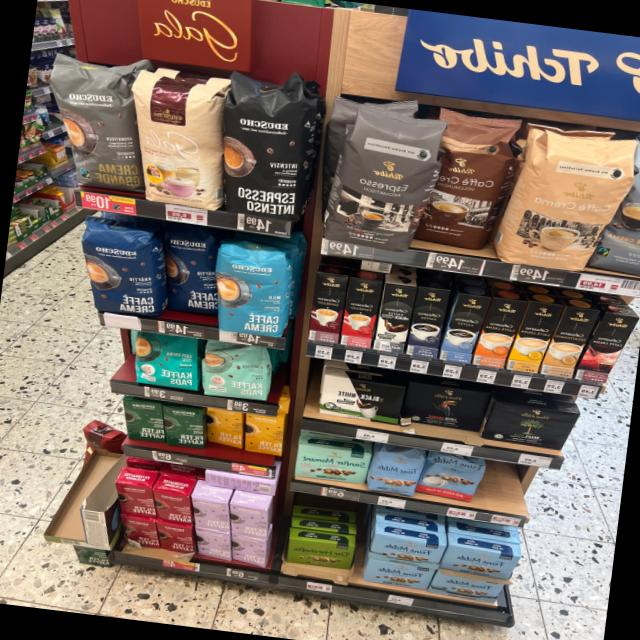BM Gemahlen: (480, 398, 582, 452)
BW Gemahlen: (314, 373, 405, 426)
CC Mild: (497, 127, 638, 278)
CC Vollmundig 36 Pads: (416, 108, 526, 255)
Espresso Aromatisch: (322, 106, 452, 254)
FM 36 Pads: (416, 452, 490, 504)
FM Bohne: (366, 444, 426, 498)
FM Gemahlen: (437, 543, 519, 581), (368, 532, 444, 570), (426, 569, 503, 604), (361, 558, 436, 592)
Herzhatfe Mundig: (284, 536, 356, 571)
LG Gemahlen: (400, 382, 490, 434)
SM Gemahlen: (292, 443, 371, 486)
Simo CC Colombia: (572, 312, 638, 384)
Simo CCMild bigpack: (505, 300, 563, 374)
Simo CCVollmundig bigpack: (471, 298, 527, 368)
Simo Decaff: (538, 306, 599, 378)
Simo Es Brazil: (340, 277, 380, 348)
Simo Es Caramel: (308, 272, 346, 343)
Simo Es Elegant: (373, 281, 416, 354)
Simo Es Kraft: (405, 285, 448, 357)
Simo Es Vanilla: (440, 294, 489, 363)
